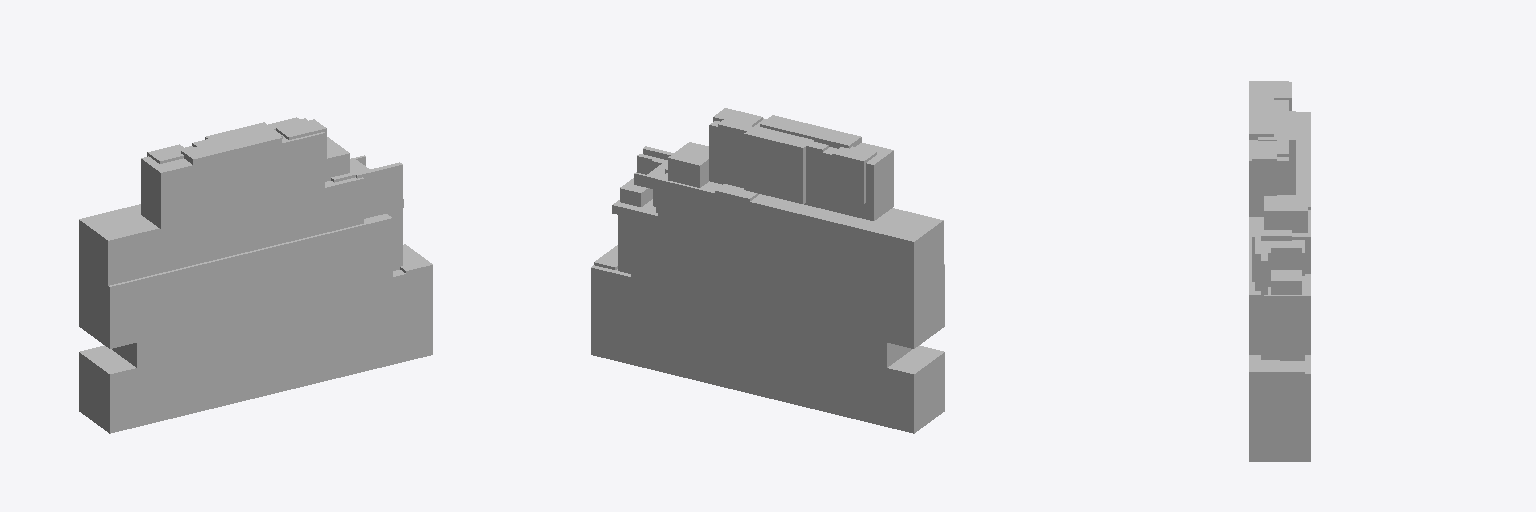
File: 3d fon 2.1-2.obj
The picture shows the model from 3 angles: view 1: azimuth 30°, elevation 25°; view 2: azimuth 150°, elevation 25°; view 3: azimuth 270°, elevation 25°; orthographic projection.
Parts seen in each view (by area): view 1: object 1; view 2: object 1; view 3: object 1.
Boxes of the visible parts, x1=… form: object 1: x1=79, y1=117, x2=432, y2=433; object 1: x1=591, y1=108, x2=944, y2=433; object 1: x1=1249, y1=81, x2=1310, y2=461.
Size of the model in its own units: 12 by 9 by 2.